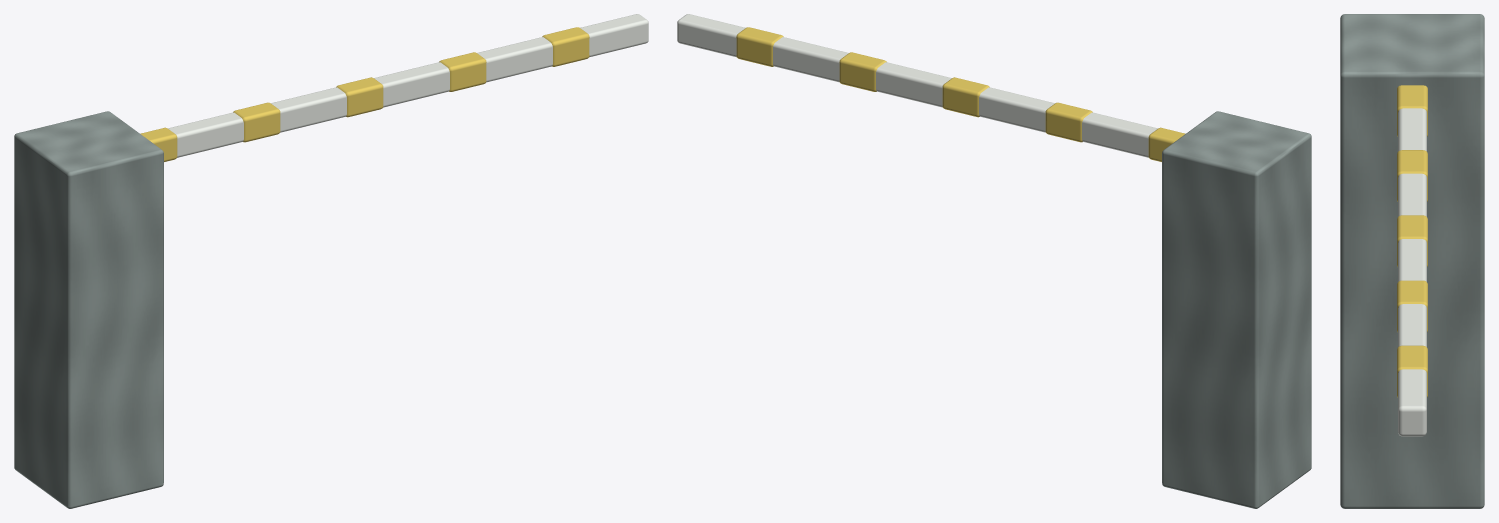
The model's file is liminal-spaces-kit-ticket-barrier-24ea483d__25313.glb.
The picture shows the model from 3 angles, left to right: view 1: azimuth 30°, elevation 25°; view 2: azimuth 150°, elevation 25°; view 3: azimuth 270°, elevation 25°; orthographic projection. The views are drawn at different scales.
Visible parts, largest first — view 1: ticket-barrier, barrier-arm (×2); view 2: ticket-barrier, barrier-arm (×2); view 3: ticket-barrier, barrier-arm (×2).
Part boxes in pixels (bbox=[...]): ticket-barrier: bbox=[14, 111, 163, 508]; barrier-arm (×2): bbox=[140, 14, 648, 161]; ticket-barrier: bbox=[1162, 111, 1311, 508]; barrier-arm (×2): bbox=[677, 14, 1185, 161]; ticket-barrier: bbox=[1340, 14, 1484, 508]; barrier-arm (×2): bbox=[1397, 85, 1427, 436].
Size of the model in its own units: 1.87 by 1 by 0.3.
3 materials, 1 textured.
